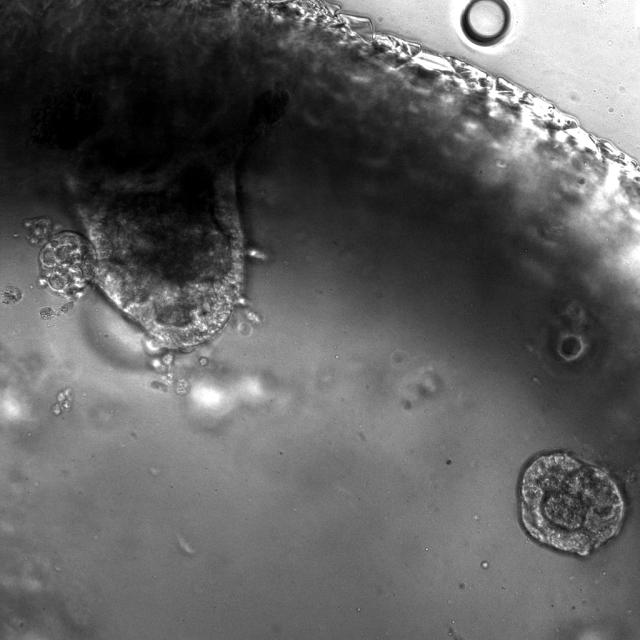organoid: (70, 161, 245, 394), (518, 451, 624, 555), (24, 217, 96, 299), (39, 301, 73, 319), (52, 388, 72, 415), (0, 284, 22, 304), (561, 337, 579, 356)
